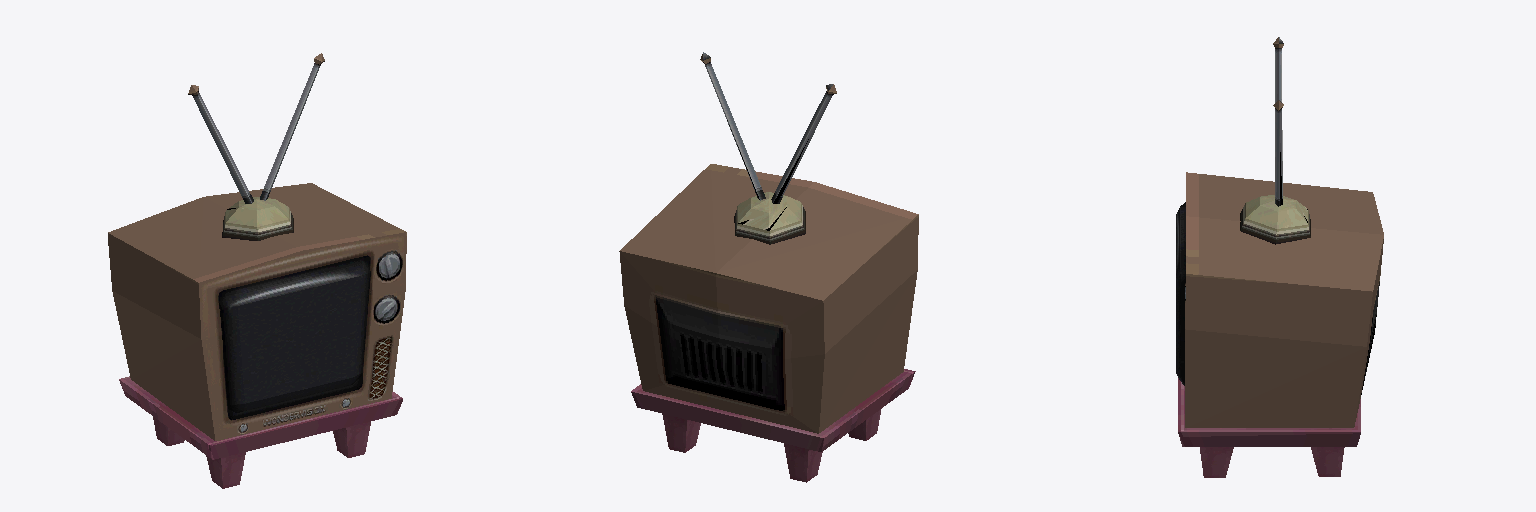
The picture shows the model from 3 angles: view 1: azimuth 30°, elevation 25°; view 2: azimuth 150°, elevation 25°; view 3: azimuth 270°, elevation 25°; orthographic projection.
Visible parts, largest first — view 1: tv; view 2: tv; view 3: tv.
Boxes of the visible parts, box(x1,y1,x2,y2) form: tv: box(108, 53, 406, 488); tv: box(619, 52, 918, 482); tv: box(1176, 37, 1383, 477).
Bounding box in the file's own units: 97.61 × 168 × 84.83.
Materials: 1 (1 with a texture image).